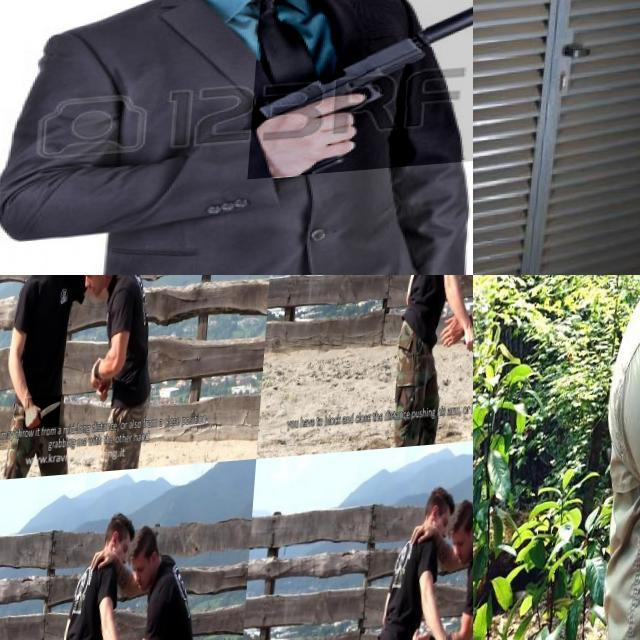-: (27, 398, 65, 430), (473, 85, 486, 173), (464, 340, 473, 364)
gun-knife-thesis - v11 Yolov5 augmented: (253, 0, 473, 184)
